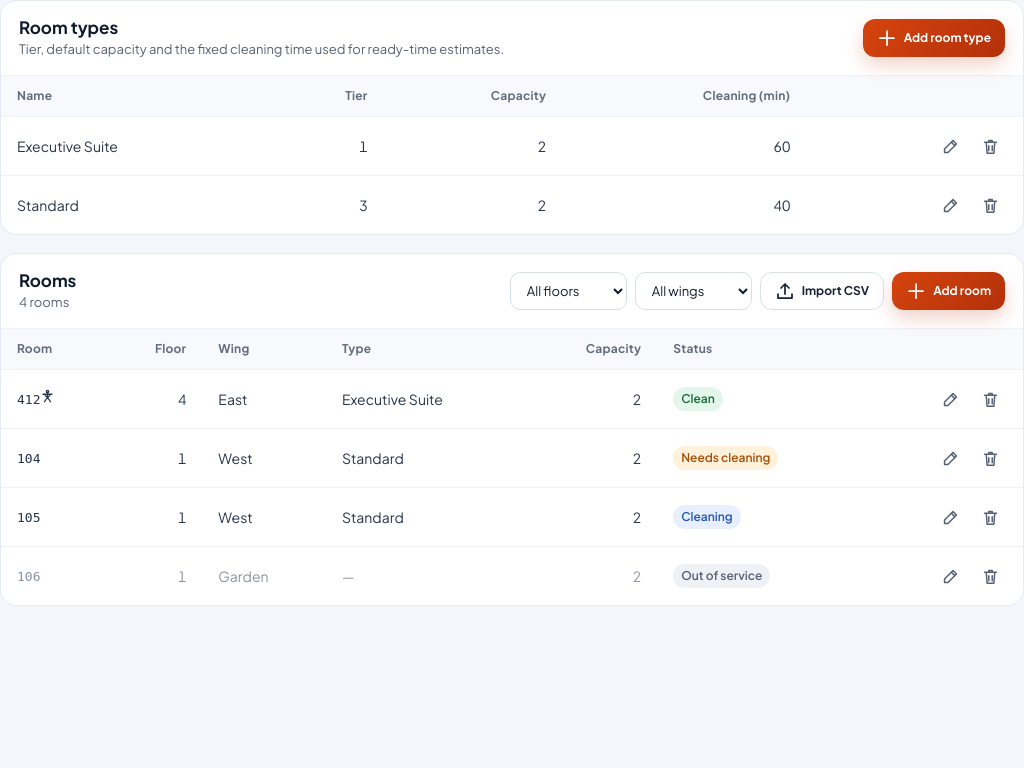
Test: RoomsTab › edits a room, keeping its capacity and taking it out of service
Expected: the text "4 rooms" is shown, [19,292,76,312]
What coordinates should you click on to do the following:
click the button named "Edit room 412"
I would click on:
 (950, 399)
Its box is [933,382,967,416].
(page scrolled)
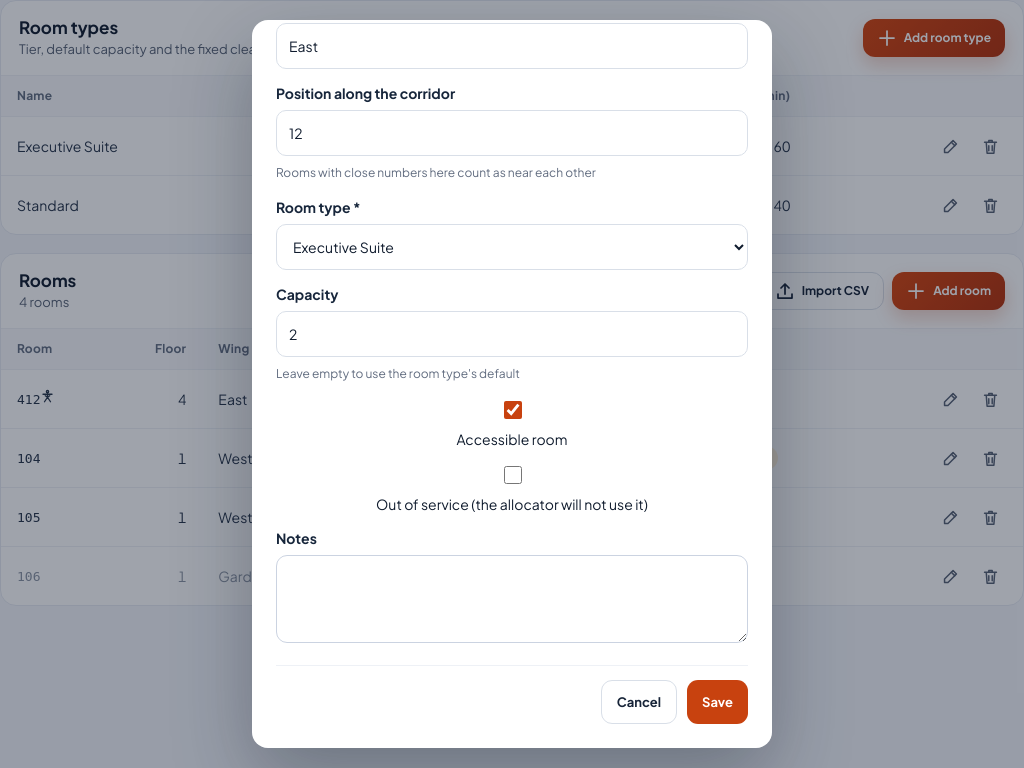
What coordinates should you click on to do the following:
click the checkbox labelled "Out of service (the allocator will not use it)"
I would click on:
 (512, 475)
Its box is [504,466,522,484].
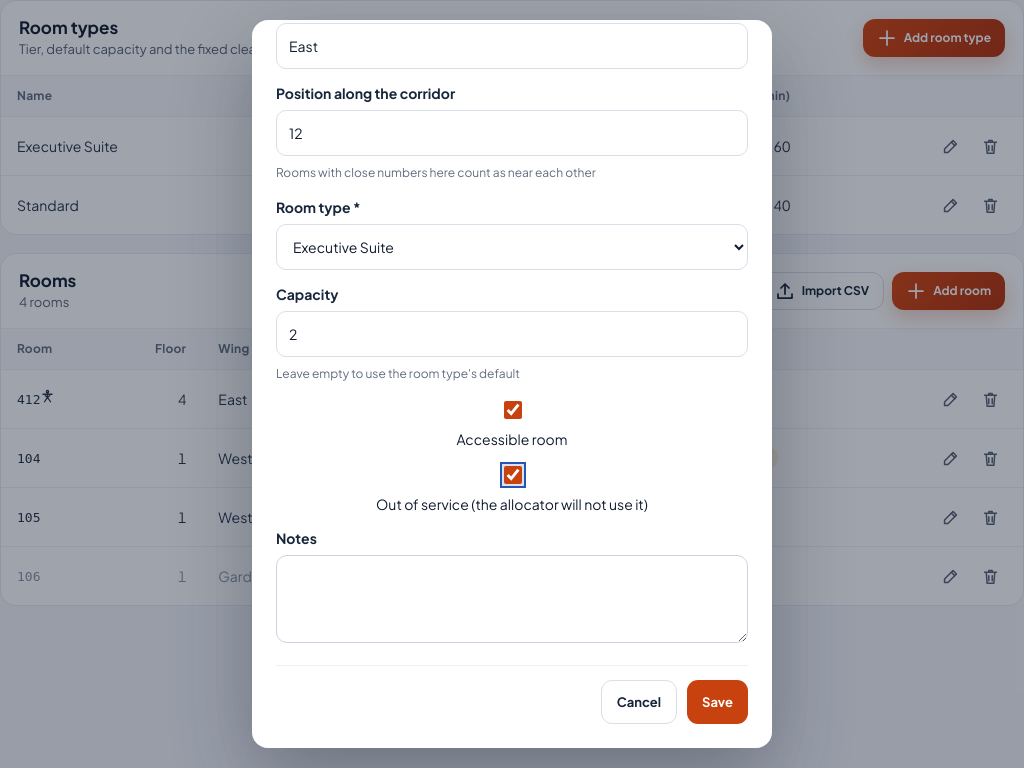
What coordinates should you click on to do the following:
click the button "Save"
I would click on:
 (718, 702)
Its box is [687,680,748,724].
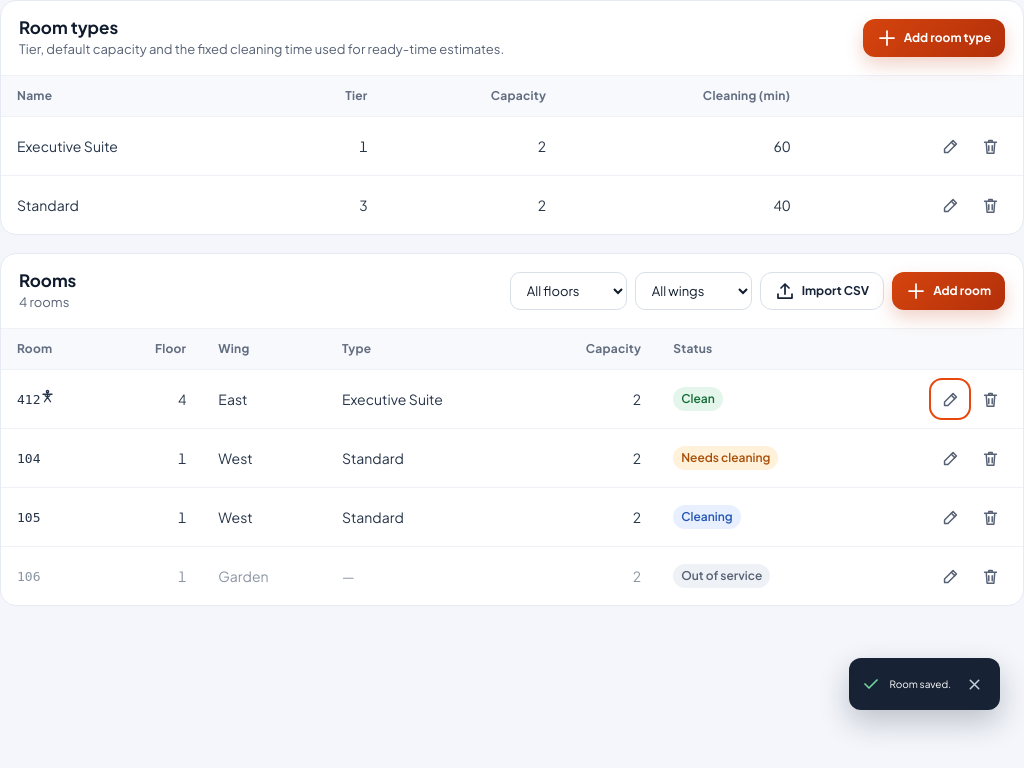
Now the text "Room saved." is shown, box [890,674,951,694]
